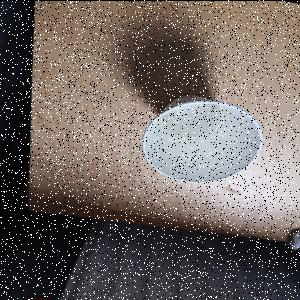Cup: (142, 94, 266, 184)
